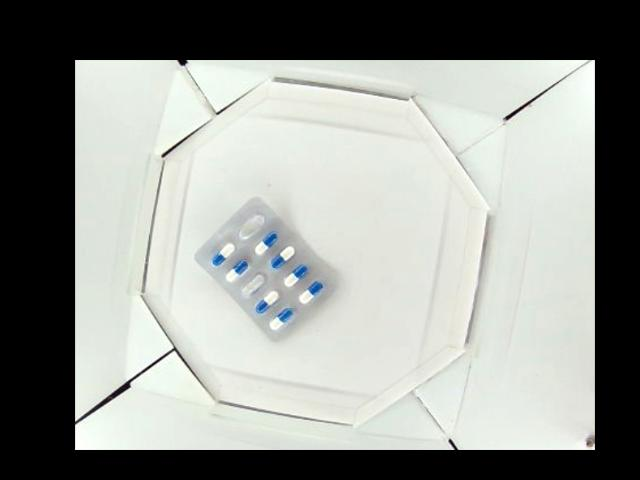Medicine: (192, 193, 339, 339)
